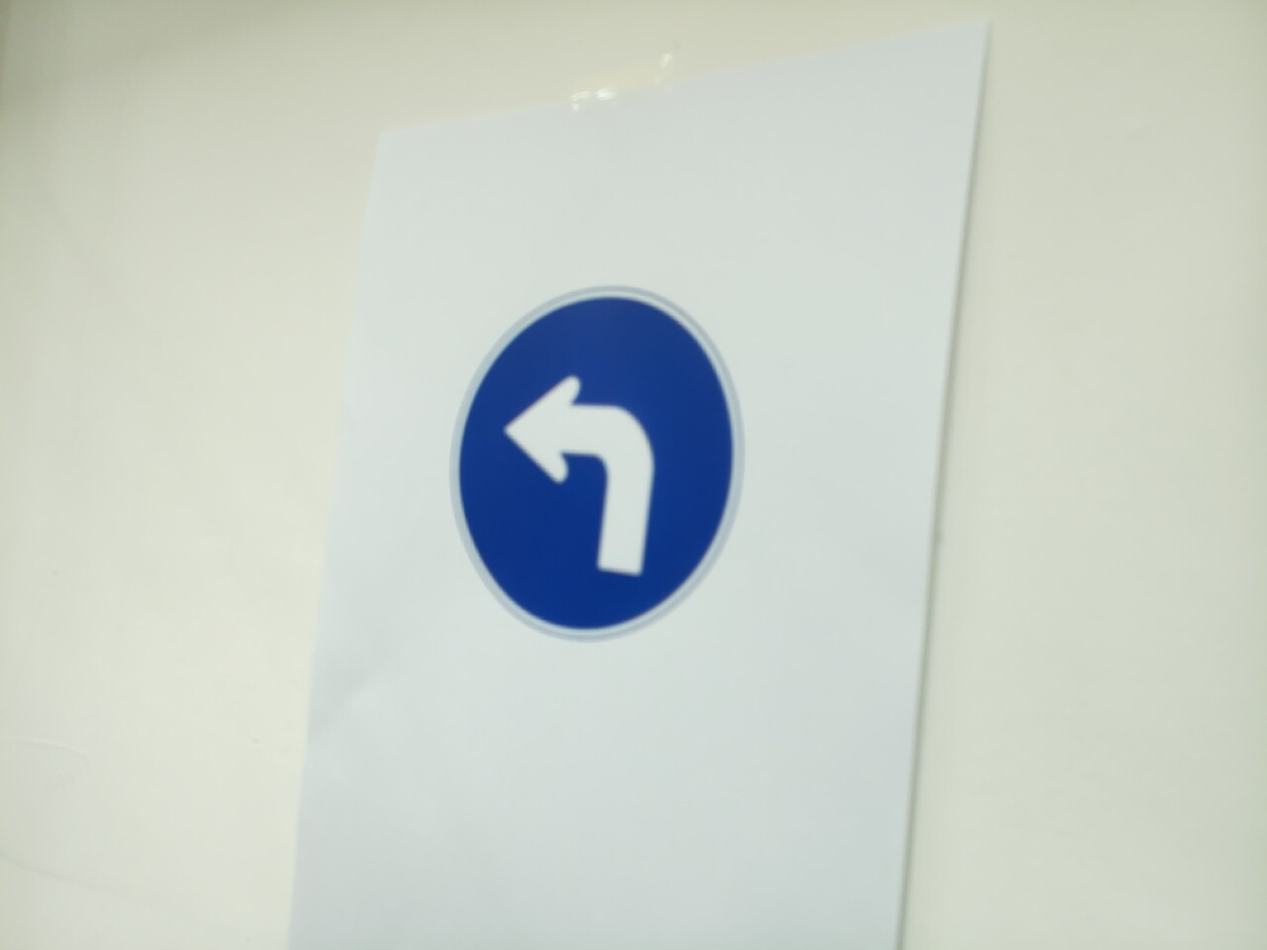left_turn: (450, 287, 741, 639)
